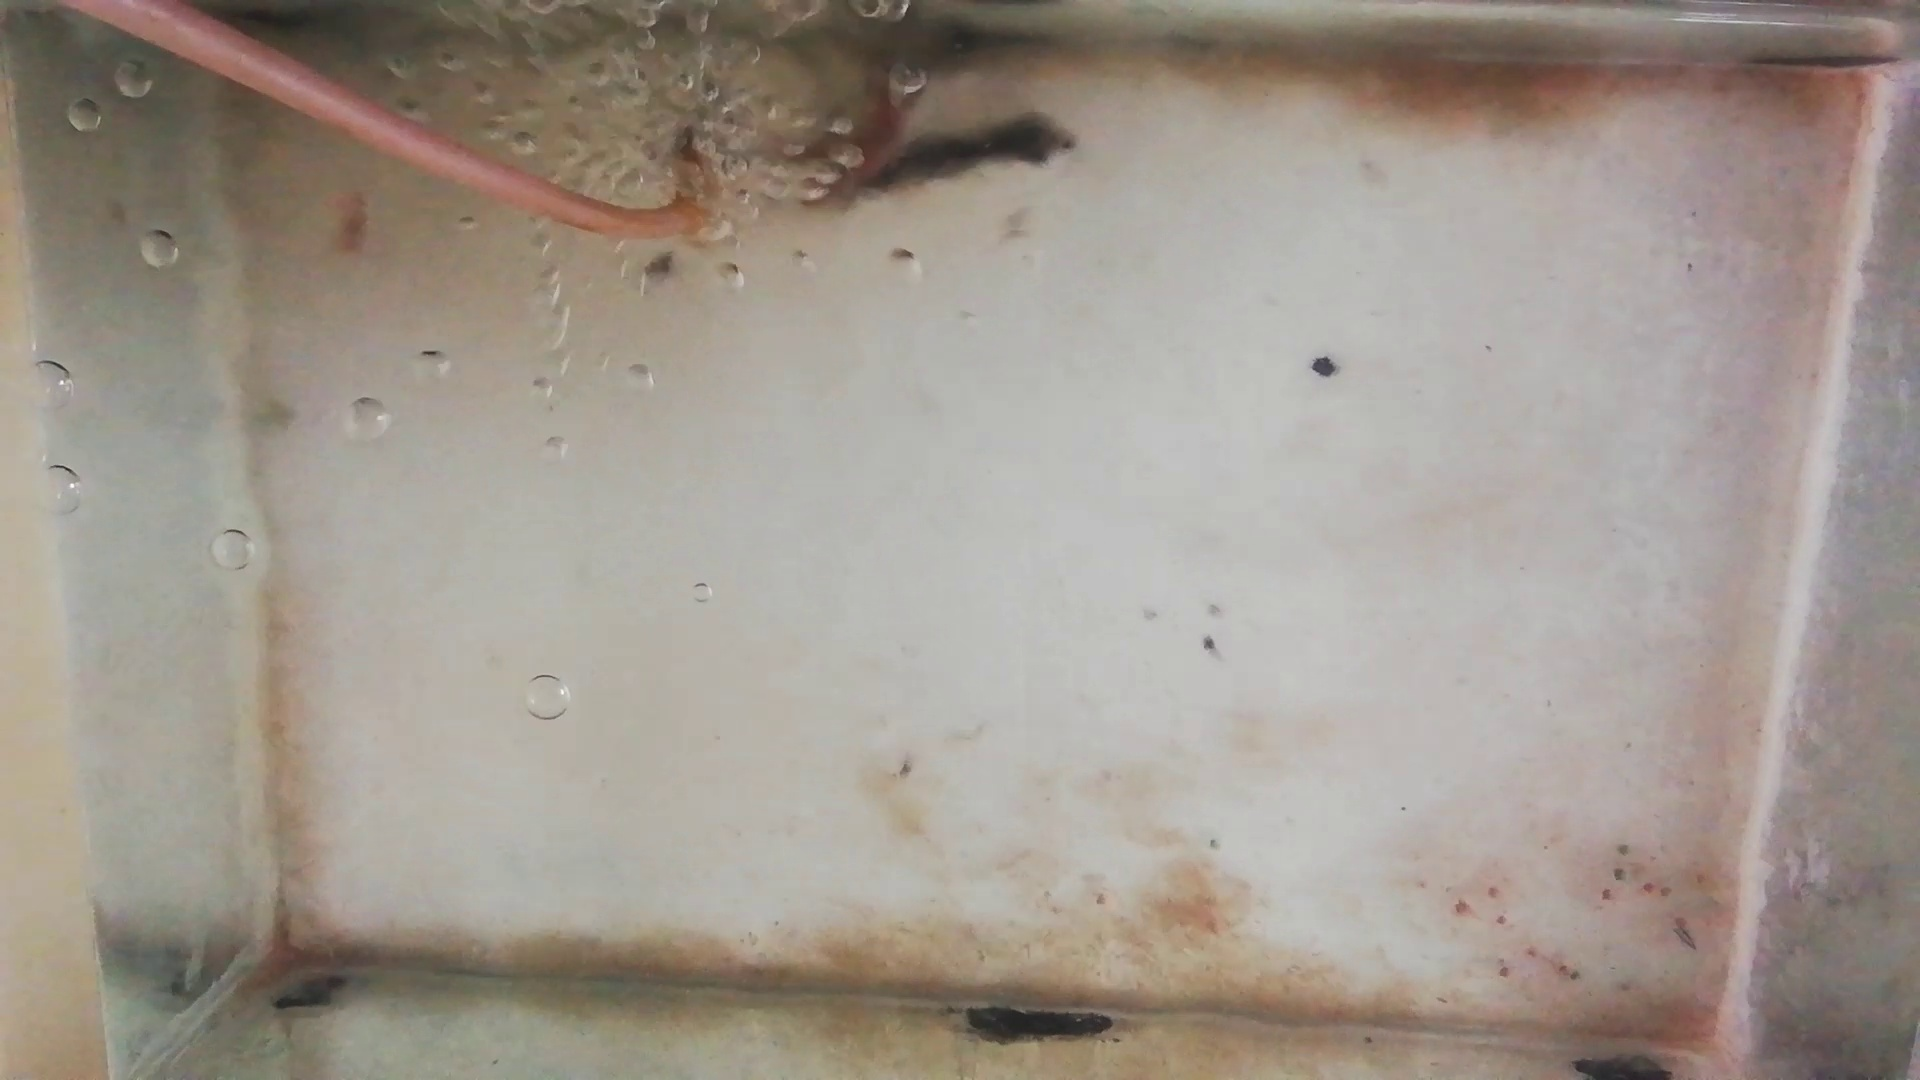fish: (852, 116, 1081, 196), (764, 54, 910, 167)
